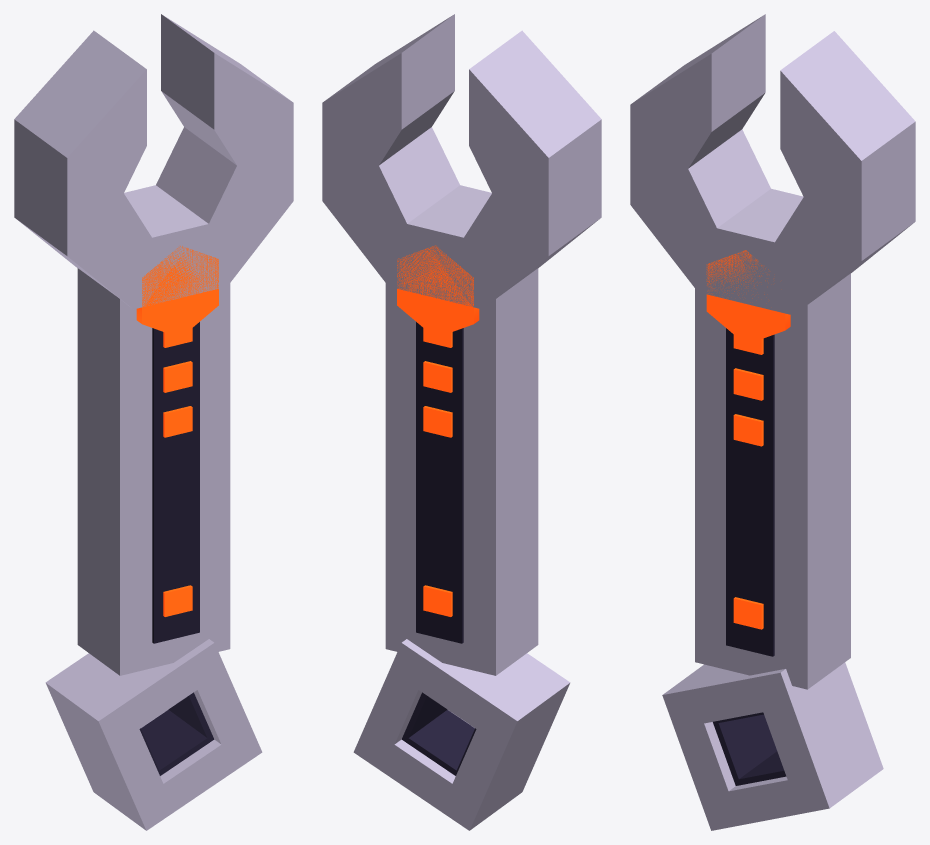
The model's file is wrench.lod1.glb.
3 views of the same model, side by side, from view 1: azimuth 30°, elevation 25°; view 2: azimuth 150°, elevation 25°; view 3: azimuth 330°, elevation 25° (orthographic). The views are drawn at different scales.
Visible parts, largest first — view 1: item.wrench.body; view 2: item.wrench.body; view 3: item.wrench.body.
Part boxes in pixels (x1,y1,x2,y2): item.wrench.body: (14,14,293,830); item.wrench.body: (322,14,601,830); item.wrench.body: (630,14,915,830).
Bounding box in the file's own units: 0.2313 × 0.7431 × 0.0938.
